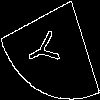Y: (24, 24, 67, 74)
